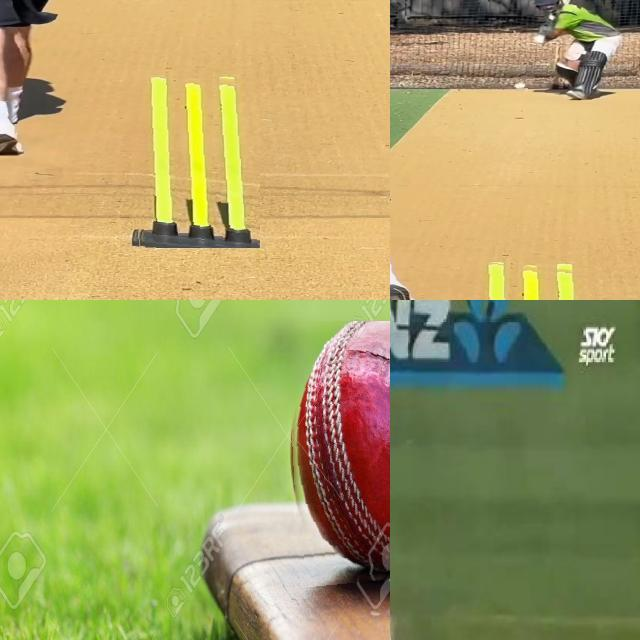Cricket ball: (286, 321, 390, 588), (513, 82, 528, 91)
Stumps: (131, 70, 260, 248), (468, 261, 595, 300)
